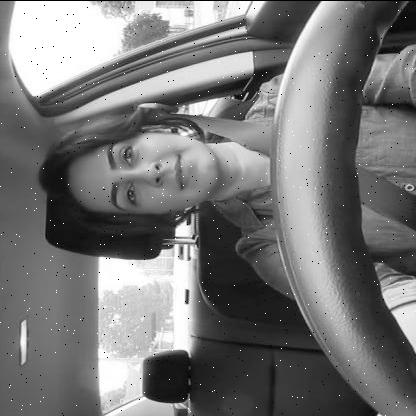seatbelt: (38, 100, 416, 252)
